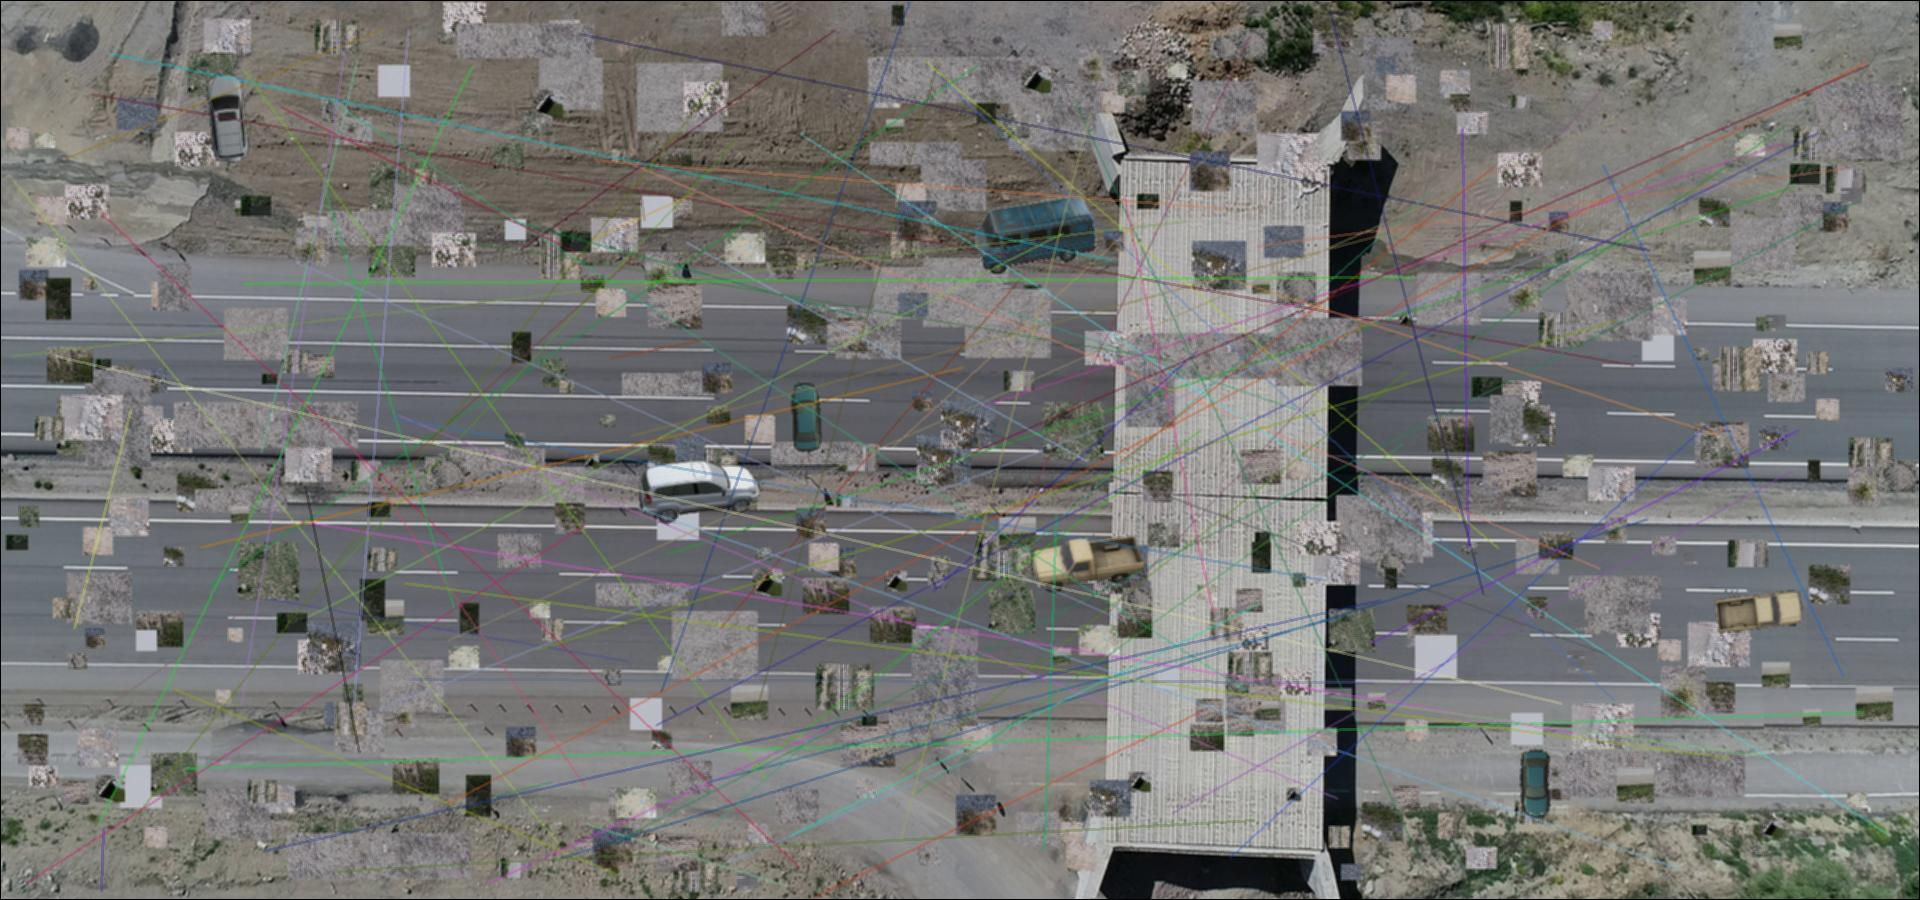arac: (970, 195, 1106, 277), (638, 456, 764, 527), (1030, 533, 1146, 594), (201, 75, 251, 165), (1713, 590, 1804, 634), (790, 382, 824, 453), (1520, 749, 1550, 818)
